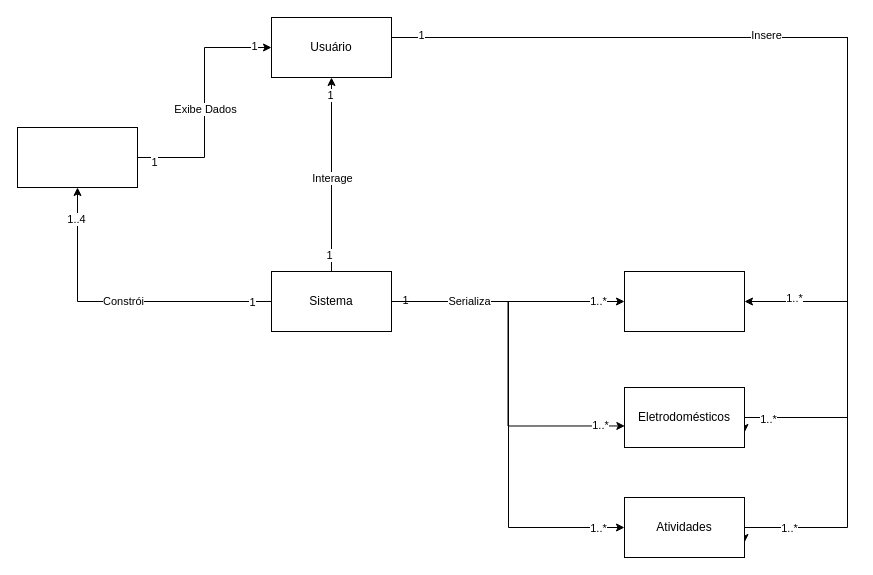
The diagram is 873 pixels wide and 575 high, and some of its shapes have lost their labels. Each missing label, with the centre of its shape:
Contas: (x=684, y=301)
Telas de Visualização: (x=77, y=157)
